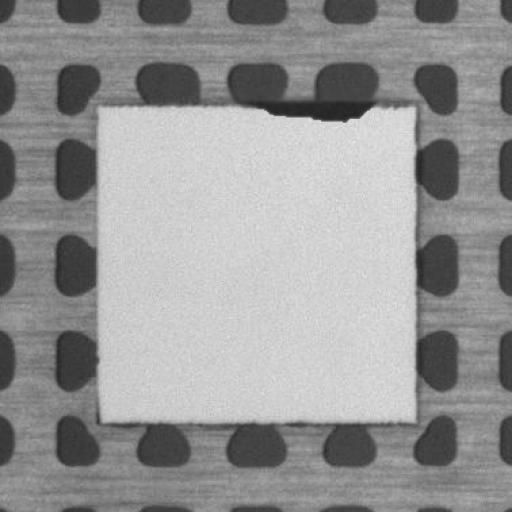DIE_BROKEN: (242, 99, 380, 120)
